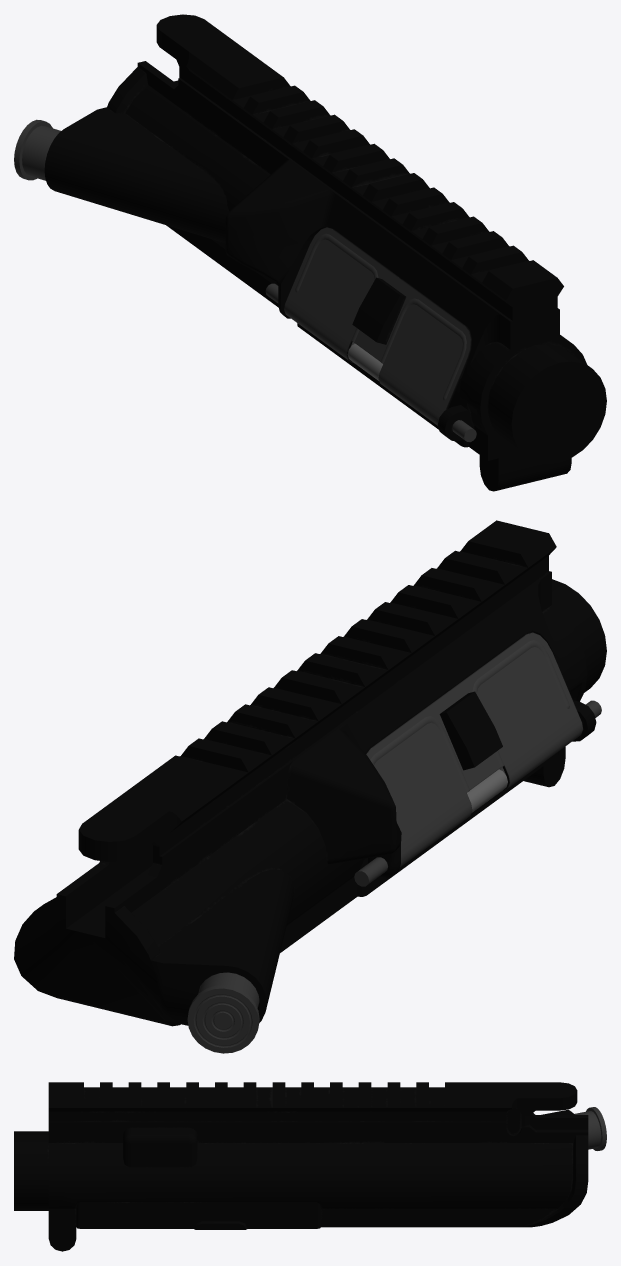
Rendered from UpperReciever.fbx.
3 renders of one model, top to bottom at view 1: azimuth 30°, elevation 25°; view 2: azimuth 150°, elevation 25°; view 3: azimuth 270°, elevation 25°, orthographic. The views are drawn at different scales.
Visible parts, largest first — view 1: UpperReciever; view 2: UpperReciever; view 3: UpperReciever.
Boxes of the visible parts, x1,y1,x2,y2 form: UpperReciever: (14, 14, 606, 491); UpperReciever: (14, 520, 606, 1053); UpperReciever: (14, 1082, 606, 1251).
Size of the model in its own units: 6.04 by 5.63 by 20.37.
Materials: 1 (1 with a texture image).
